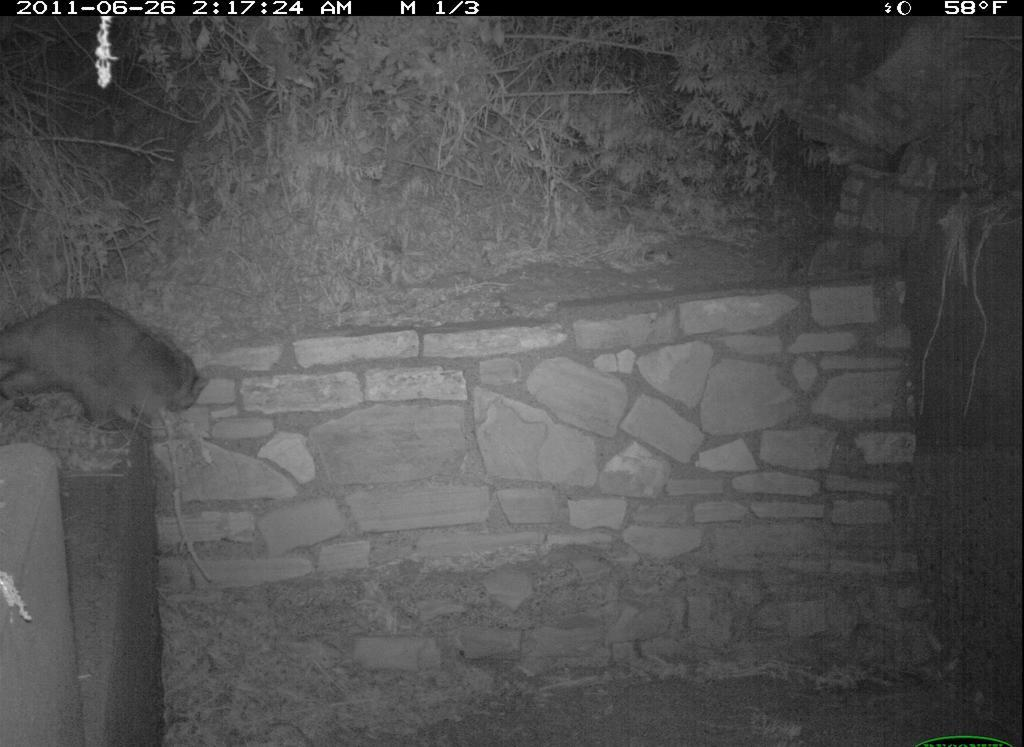raccoon: (7, 292, 203, 445)
